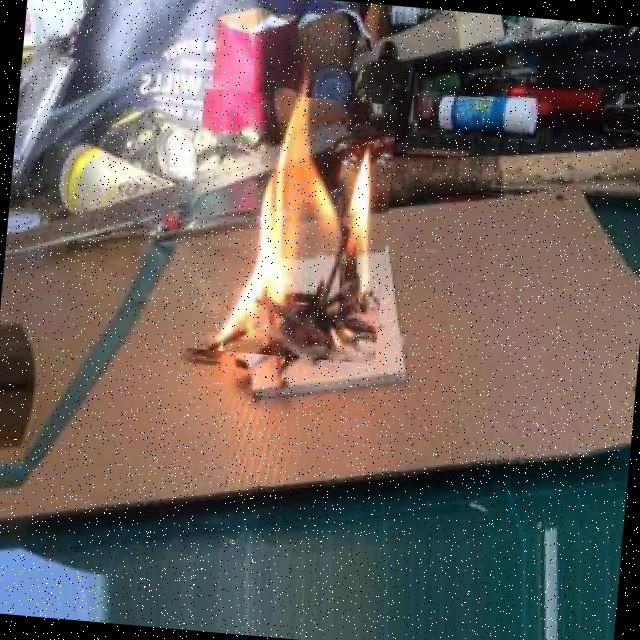fire: (181, 88, 397, 364)
